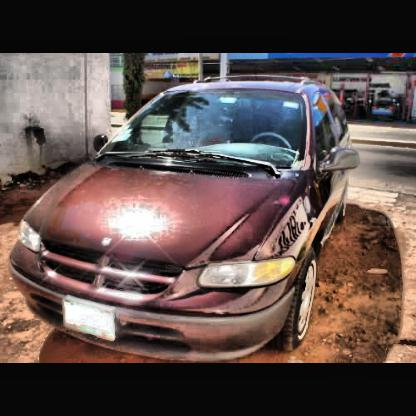Dodge Caravan Minivan 1997: (9, 76, 361, 360)
